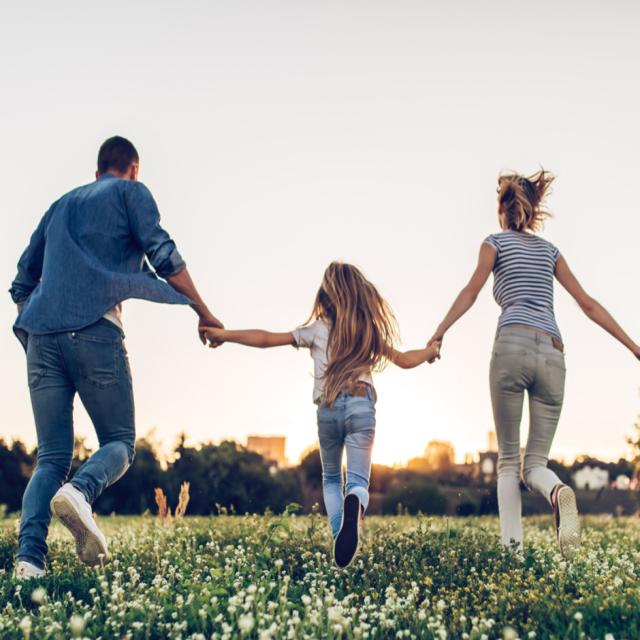adult: (8, 133, 225, 584), (425, 171, 640, 563)
child: (198, 261, 442, 569)
